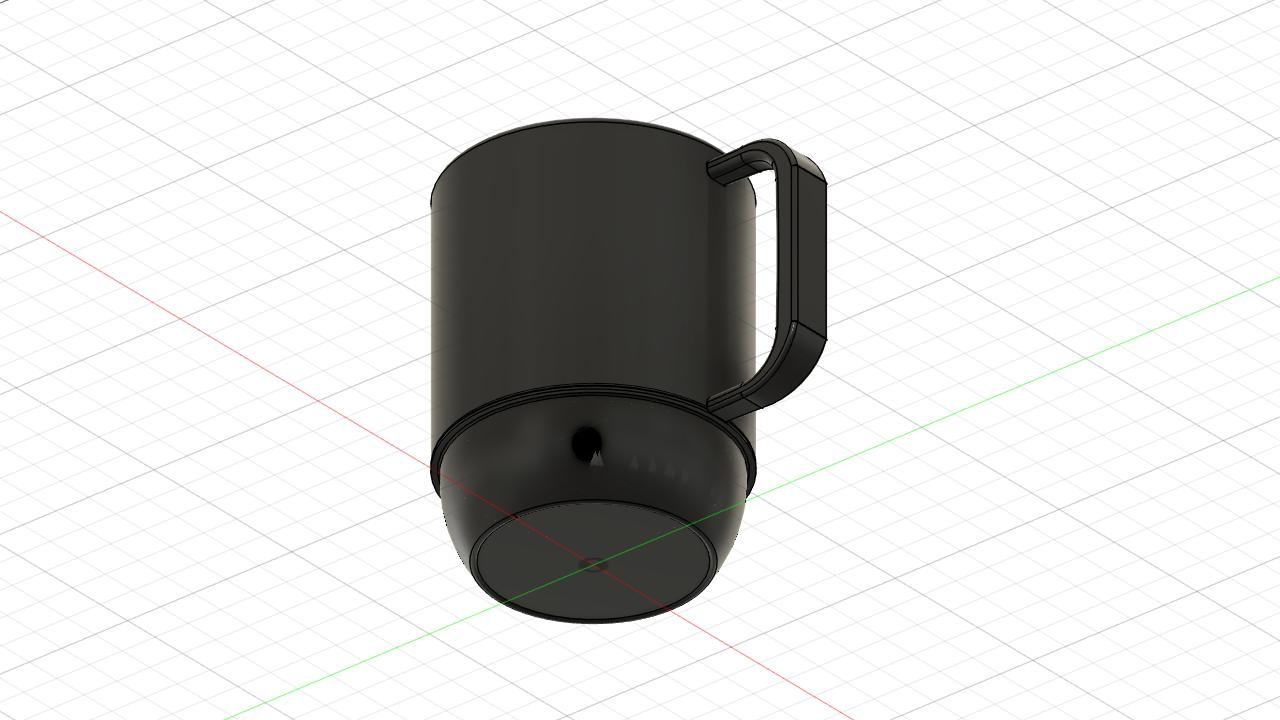mug-real100-3d100: (431, 120, 826, 621)
